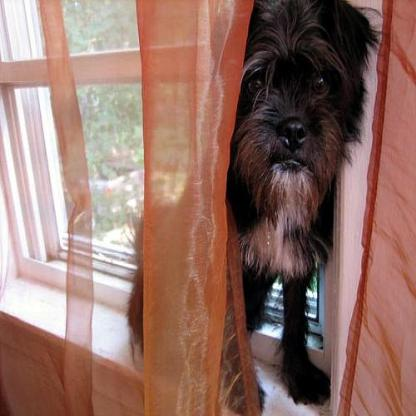affenpinscher: (120, 0, 380, 412)
